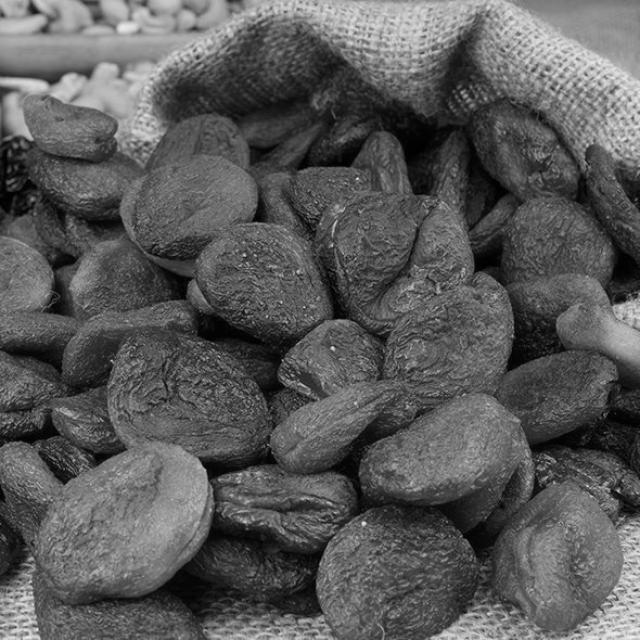Kayisi: (39, 439, 203, 603), (110, 329, 274, 460), (320, 509, 479, 640), (136, 160, 261, 257)
